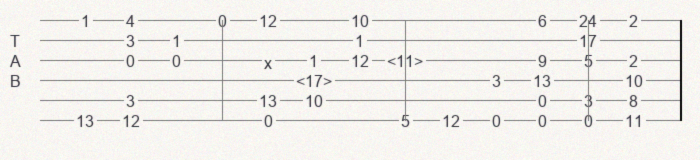0: (126, 52, 139, 68), (172, 52, 185, 68), (218, 12, 231, 28), (264, 112, 277, 128), (492, 112, 505, 128), (538, 92, 551, 108), (538, 112, 551, 128), (584, 112, 597, 128)
1: (81, 12, 94, 28), (172, 32, 185, 48), (309, 52, 322, 68), (355, 32, 368, 48)
10: (305, 92, 327, 108), (351, 12, 373, 28), (625, 72, 647, 88)
11: (625, 112, 647, 128)
12: (122, 112, 144, 128), (259, 12, 281, 28), (351, 52, 373, 68), (442, 112, 464, 128)
13: (76, 112, 98, 128), (259, 92, 281, 108), (533, 72, 555, 88)
17: (579, 32, 601, 48)
2: (629, 52, 642, 68), (629, 12, 642, 28)
24: (579, 12, 601, 28)
3: (126, 32, 139, 48), (126, 92, 139, 108), (492, 72, 505, 88), (584, 92, 597, 108)
4: (126, 12, 139, 28)
5: (401, 112, 414, 128), (584, 52, 597, 68)
6: (538, 12, 551, 28)
8: (629, 92, 642, 108)
9: (538, 52, 551, 68)
harmonic: (296, 72, 336, 88), (387, 52, 427, 68)
x: (264, 54, 276, 67)
